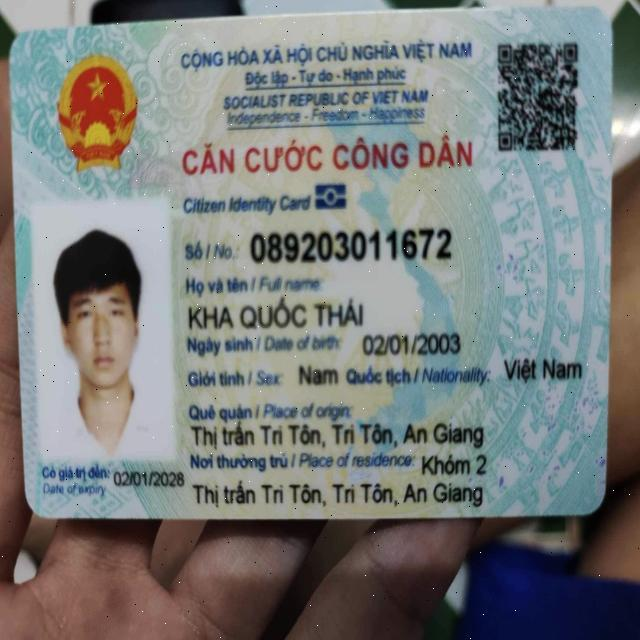current_place: (187, 478, 489, 512), (418, 449, 492, 481)
dob: (359, 329, 464, 361)
expire_date: (111, 466, 187, 492)
gender: (295, 358, 341, 390)
id: (246, 224, 456, 268)
name: (184, 292, 370, 334)
nationality: (502, 354, 585, 386)
origin_place: (187, 420, 488, 453)
qr: (492, 36, 582, 158)
